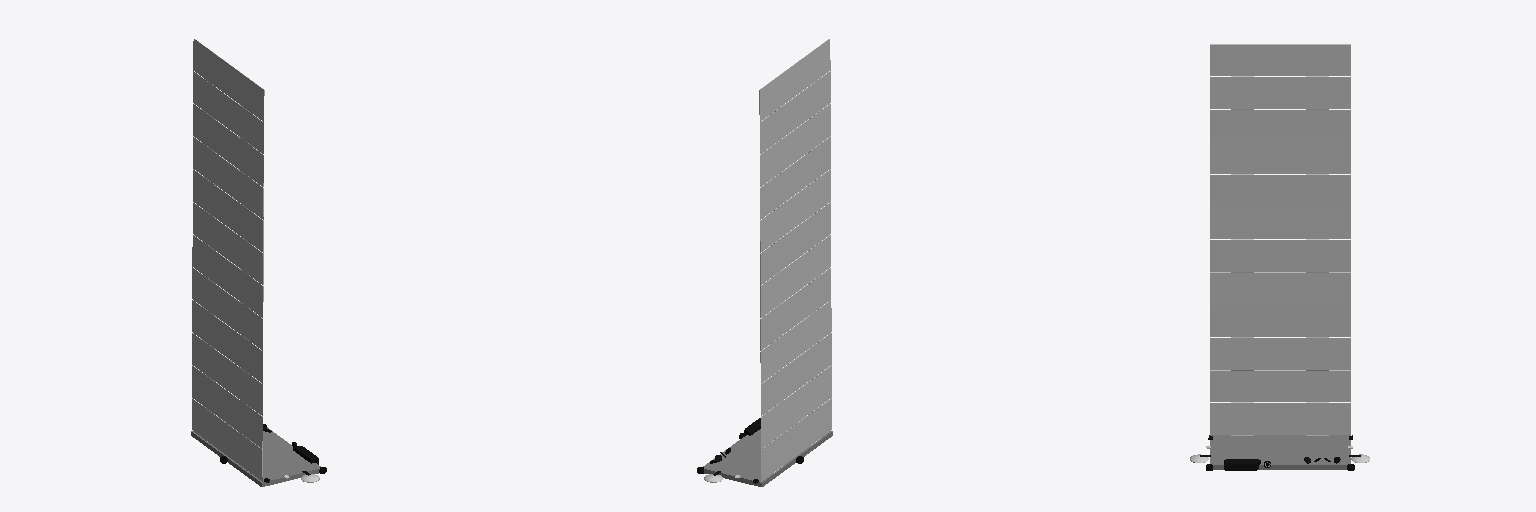
File: Starlink.obj
3 renders of one model, left to right at view 1: azimuth 30°, elevation 25°; view 2: azimuth 150°, elevation 25°; view 3: azimuth 270°, elevation 25°, orthographic.
Parts seen in each view (by area): view 1: SolarPanel.011_Cube.027, SolarPanel.005_Cube.021, SolarPanel.009_Cube.025, SolarPanel.003_Cube.019, SolarPanel.007_Cube.023, SolarPanel.001_Cube.015, SolarPanel.010_Cube.026, SolarPanel.004_Cube.020, SolarPanel.008_Cube.024, SolarPanel.002_Cube.017, SolarPanel.006_Cube.022, SolarPanel_Cube.014 (+1 smaller); view 2: SolarPanel.011_Cube.027, SolarPanel.003_Cube.019, SolarPanel.009_Cube.025, SolarPanel.005_Cube.021, SolarPanel.007_Cube.023, SolarPanel.001_Cube.015, SolarPanel.010_Cube.026, SolarPanel.004_Cube.020, SolarPanel.008_Cube.024, SolarPanel.002_Cube.017, SolarPanel.006_Cube.022, SolarPanel_Cube.014 (+1 smaller); view 3: SolarPanel.004_Cube.020, SolarPanel_Cube.014, SolarPanel.002_Cube.017, SolarPanel.003_Cube.019, SolarPanel.005_Cube.021, SolarPanel.006_Cube.022, SolarPanel.007_Cube.023, SolarPanel.008_Cube.024, SolarPanel.009_Cube.025, SolarPanel.010_Cube.026, SolarPanel.011_Cube.027, SolarPanel.001_Cube.015 (+1 smaller).
Boxes of the visible parts, x1=… form: SolarPanel.011_Cube.027: x1=193, y1=39, x2=264, y2=121; SolarPanel.005_Cube.021: x1=192, y1=235, x2=263, y2=317; SolarPanel.009_Cube.025: x1=193, y1=104, x2=263, y2=186; SolarPanel.003_Cube.019: x1=192, y1=300, x2=262, y2=383; SolarPanel.007_Cube.023: x1=193, y1=169, x2=263, y2=252; SolarPanel.001_Cube.015: x1=192, y1=365, x2=262, y2=448; SolarPanel.010_Cube.026: x1=193, y1=71, x2=263, y2=153; SolarPanel.004_Cube.020: x1=192, y1=267, x2=262, y2=350; SolarPanel.008_Cube.024: x1=193, y1=136, x2=263, y2=219; SolarPanel.002_Cube.017: x1=192, y1=333, x2=262, y2=415; SolarPanel.006_Cube.022: x1=193, y1=202, x2=263, y2=284; SolarPanel_Cube.014: x1=192, y1=398, x2=262, y2=481; SolarPanel.011_Cube.027: x1=759, y1=39, x2=830, y2=121; SolarPanel.003_Cube.019: x1=760, y1=300, x2=831, y2=383; SolarPanel.009_Cube.025: x1=760, y1=104, x2=830, y2=186; SolarPanel.005_Cube.021: x1=760, y1=235, x2=830, y2=317; SolarPanel.007_Cube.023: x1=760, y1=169, x2=830, y2=252; SolarPanel.001_Cube.015: x1=761, y1=365, x2=831, y2=448; SolarPanel.010_Cube.026: x1=760, y1=71, x2=830, y2=153; SolarPanel.004_Cube.020: x1=760, y1=268, x2=830, y2=350; SolarPanel.008_Cube.024: x1=760, y1=136, x2=830, y2=219; SolarPanel.002_Cube.017: x1=761, y1=333, x2=831, y2=415; SolarPanel.006_Cube.022: x1=760, y1=202, x2=830, y2=285; SolarPanel_Cube.014: x1=761, y1=398, x2=831, y2=481; SolarPanel.004_Cube.020: x1=1210, y1=272, x2=1350, y2=304; SolarPanel_Cube.014: x1=1210, y1=403, x2=1350, y2=434; SolarPanel.002_Cube.017: x1=1210, y1=338, x2=1350, y2=369; SolarPanel.003_Cube.019: x1=1210, y1=305, x2=1350, y2=336; SolarPanel.005_Cube.021: x1=1210, y1=240, x2=1350, y2=271; SolarPanel.006_Cube.022: x1=1210, y1=207, x2=1350, y2=238; SolarPanel.007_Cube.023: x1=1210, y1=175, x2=1350, y2=206; SolarPanel.008_Cube.024: x1=1210, y1=142, x2=1350, y2=173; SolarPanel.009_Cube.025: x1=1210, y1=110, x2=1350, y2=141; SolarPanel.010_Cube.026: x1=1210, y1=77, x2=1350, y2=108; SolarPanel.011_Cube.027: x1=1210, y1=44, x2=1350, y2=75; SolarPanel.001_Cube.015: x1=1210, y1=370, x2=1350, y2=401.
Size of the model in its own units: 3.23 by 17.37 by 7.17.